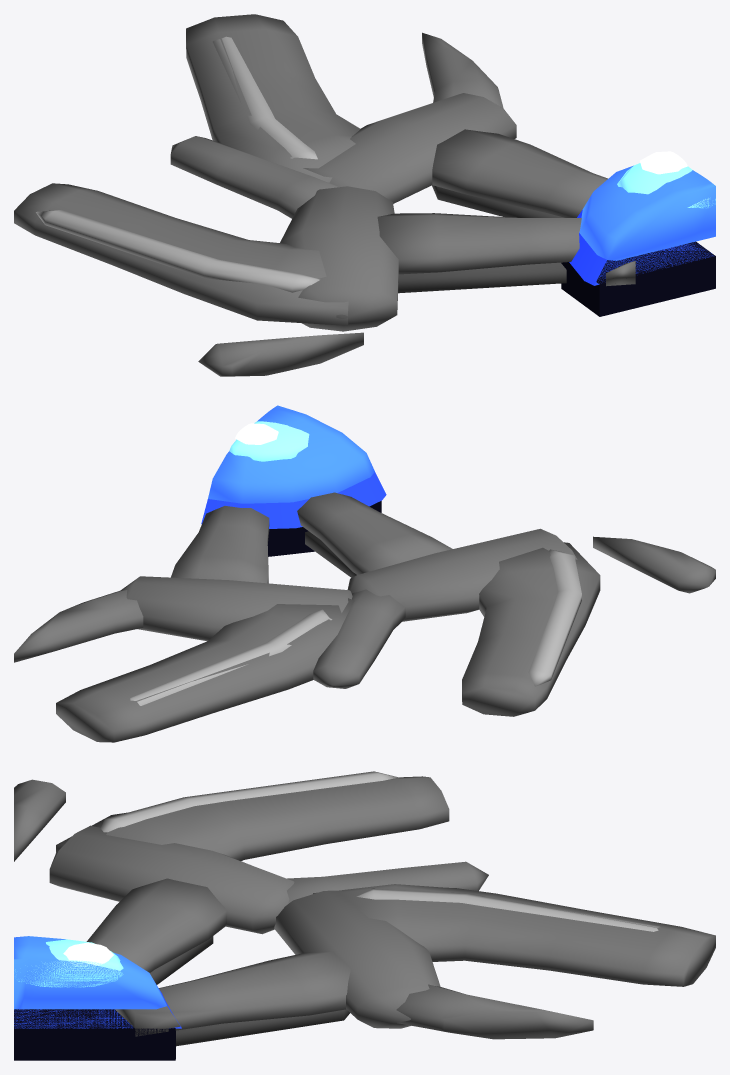
Rendered from newsh-hash-157-f2.glb.
3 views of the same model, one above another, from view 1: azimuth 30°, elevation 25°; view 2: azimuth 150°, elevation 25°; view 3: azimuth 270°, elevation 25° (orthographic). The views are drawn at different scales.
Visible parts, largest first — view 1: newsh-hash-157-f2; view 2: newsh-hash-157-f2; view 3: newsh-hash-157-f2.
Part boxes in pixels (bbox=[...]): newsh-hash-157-f2: bbox=[14, 14, 715, 376]; newsh-hash-157-f2: bbox=[14, 405, 715, 742]; newsh-hash-157-f2: bbox=[14, 771, 715, 1060].
Size of the model in its own units: 1.61 by 0.33 by 1.98.
